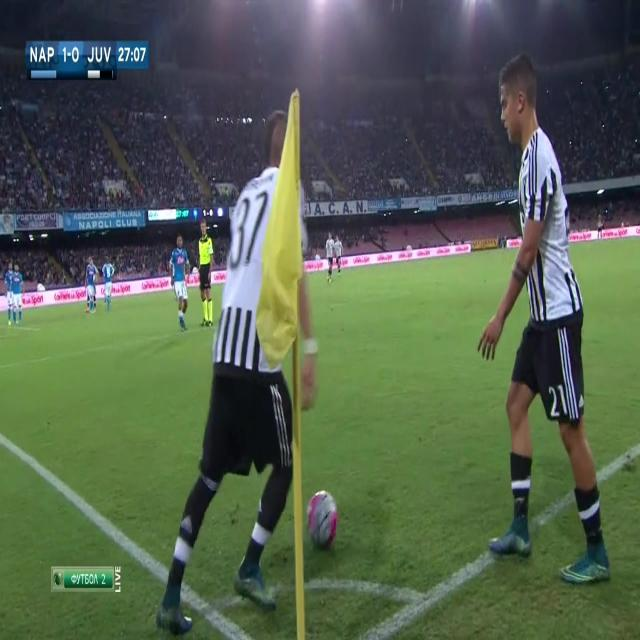Ball: (306, 486, 342, 552)
Player: (154, 107, 320, 635), (472, 51, 616, 591), (169, 233, 193, 334), (100, 250, 116, 311), (84, 254, 98, 321), (12, 261, 25, 333), (4, 260, 12, 328), (325, 231, 334, 288), (335, 233, 344, 278)
Referee: (196, 215, 216, 332)
